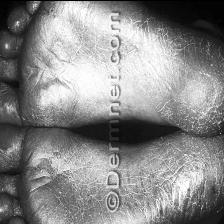Non-Cancerous Skin Condition: (0, 0, 100, 224), (153, 37, 224, 224)
